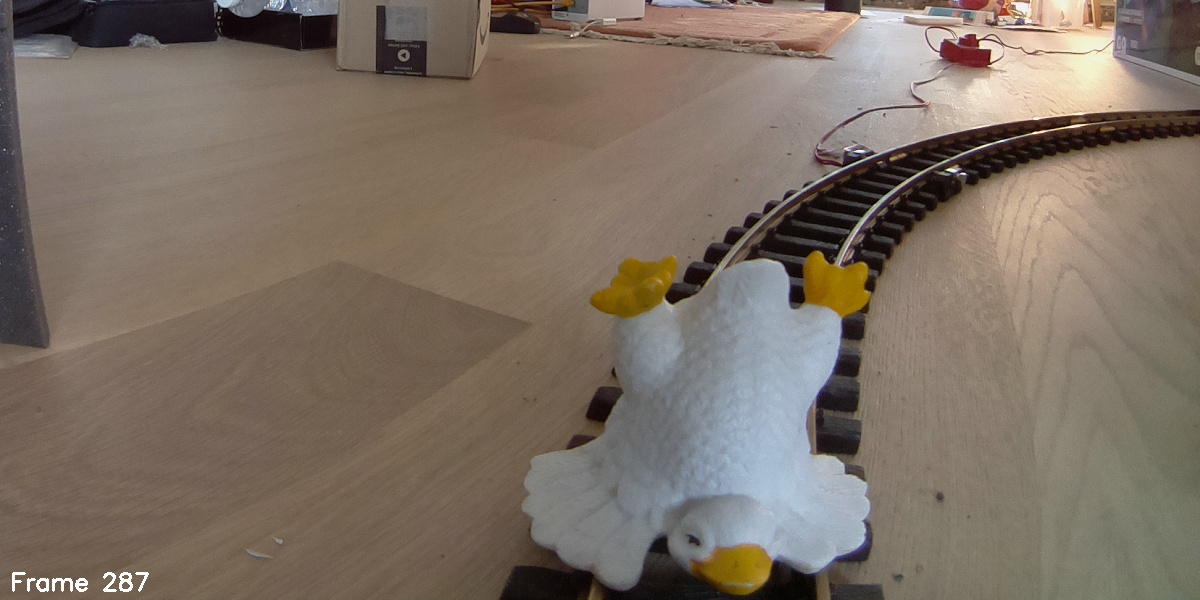Ente: (518, 251, 872, 600)
